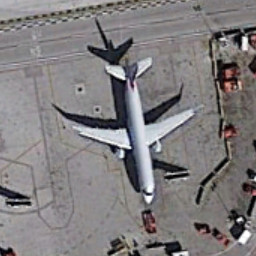Airplane: (62, 43, 205, 215)
